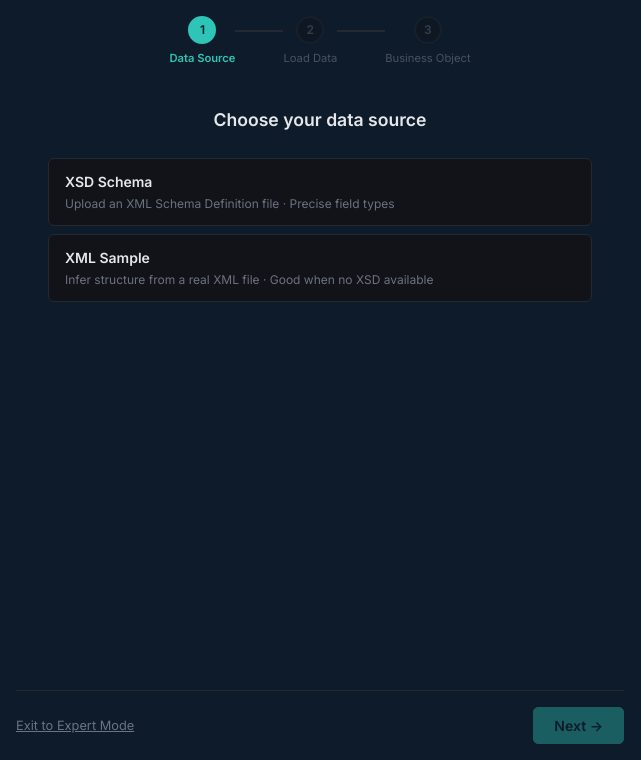
it: WizardShell › advances to step 2 after selecting source and clicking Next
Click the radio button labelled "XSD Schema". click: (109, 181)
box: left=48, top=158, right=592, bottom=226
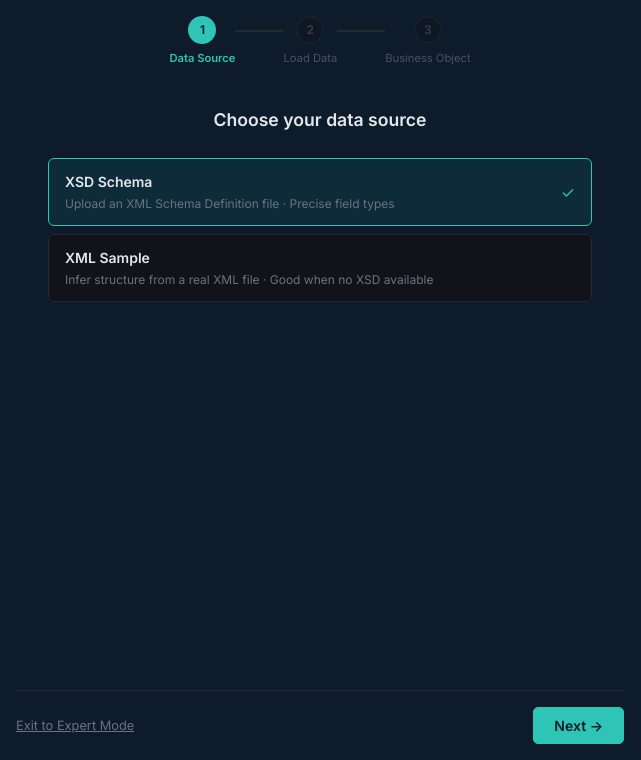
Click the button "Next →". click: (579, 725)
box: left=533, top=707, right=624, bottom=744
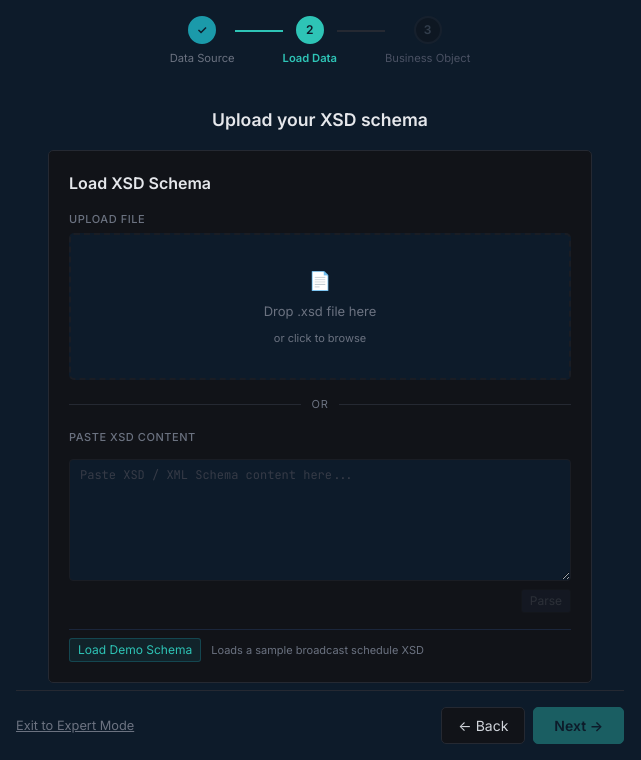
Now the heading "Upload your XSD schema" is shown, box left=212, top=109, right=428, bottom=130
